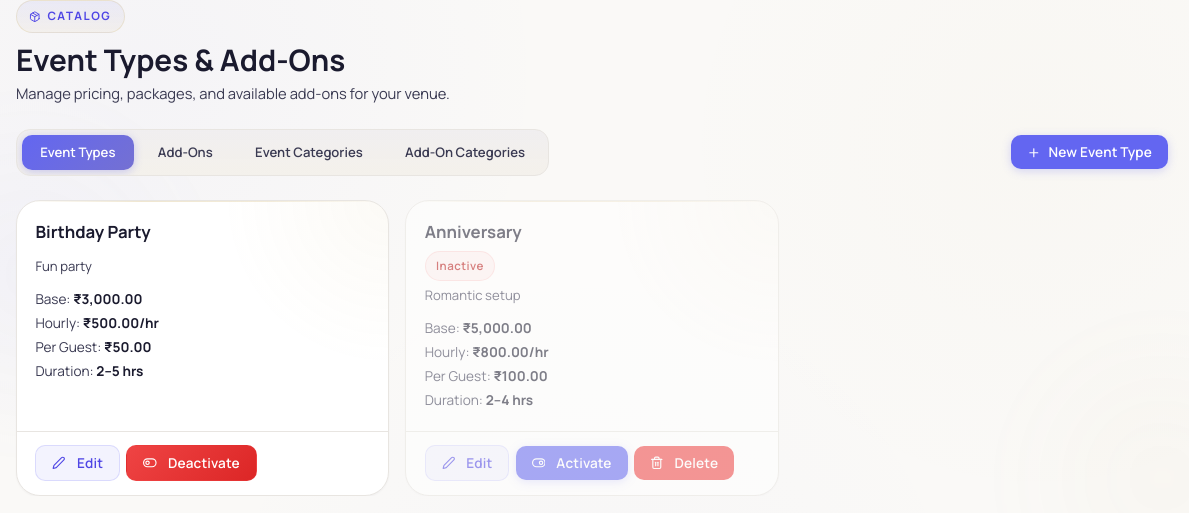
Test case: AdminEventTypes Comprehensive › Tab Switching › switching back shows event types again
The width and height of the screenshot is (1189, 513).
Expected: the text "Birthday Party" is shown, [35,220,151,243]
Click the button "Add-Ons". click: (185, 152)
box: [139,135,231,170]
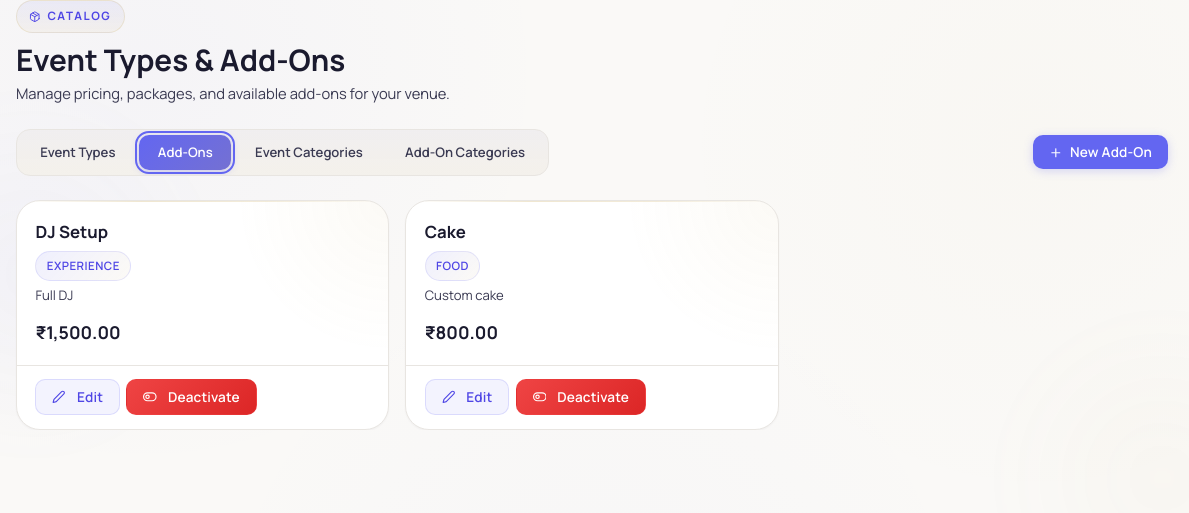
Result: the text "DJ Setup" is shown at [35,220,108,243]
Click the button "Event Types". click: (78, 152)
box: [22,135,134,170]
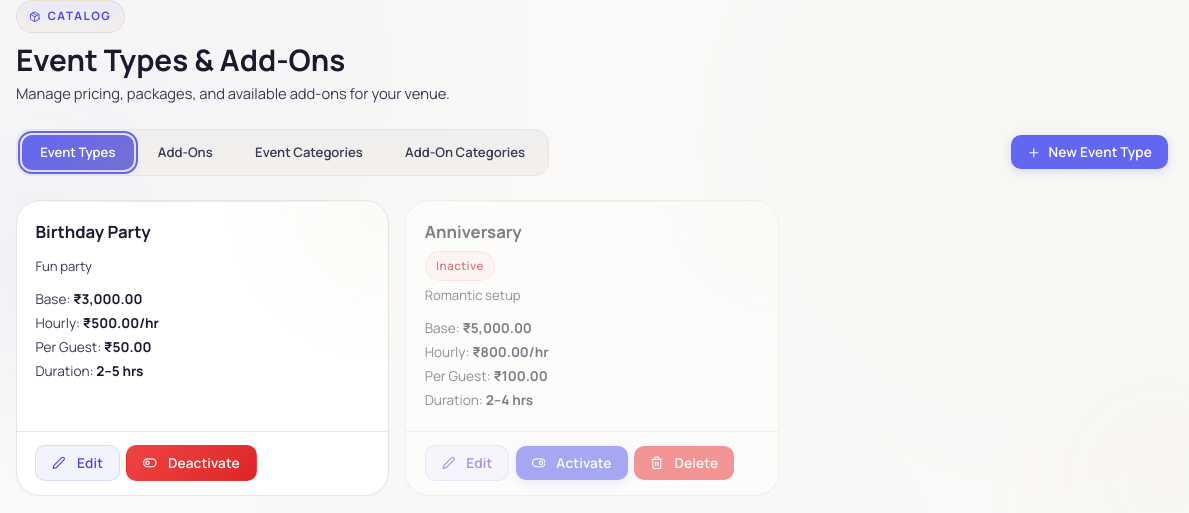
Result: the text "Birthday Party" is shown at [35,220,151,243]
